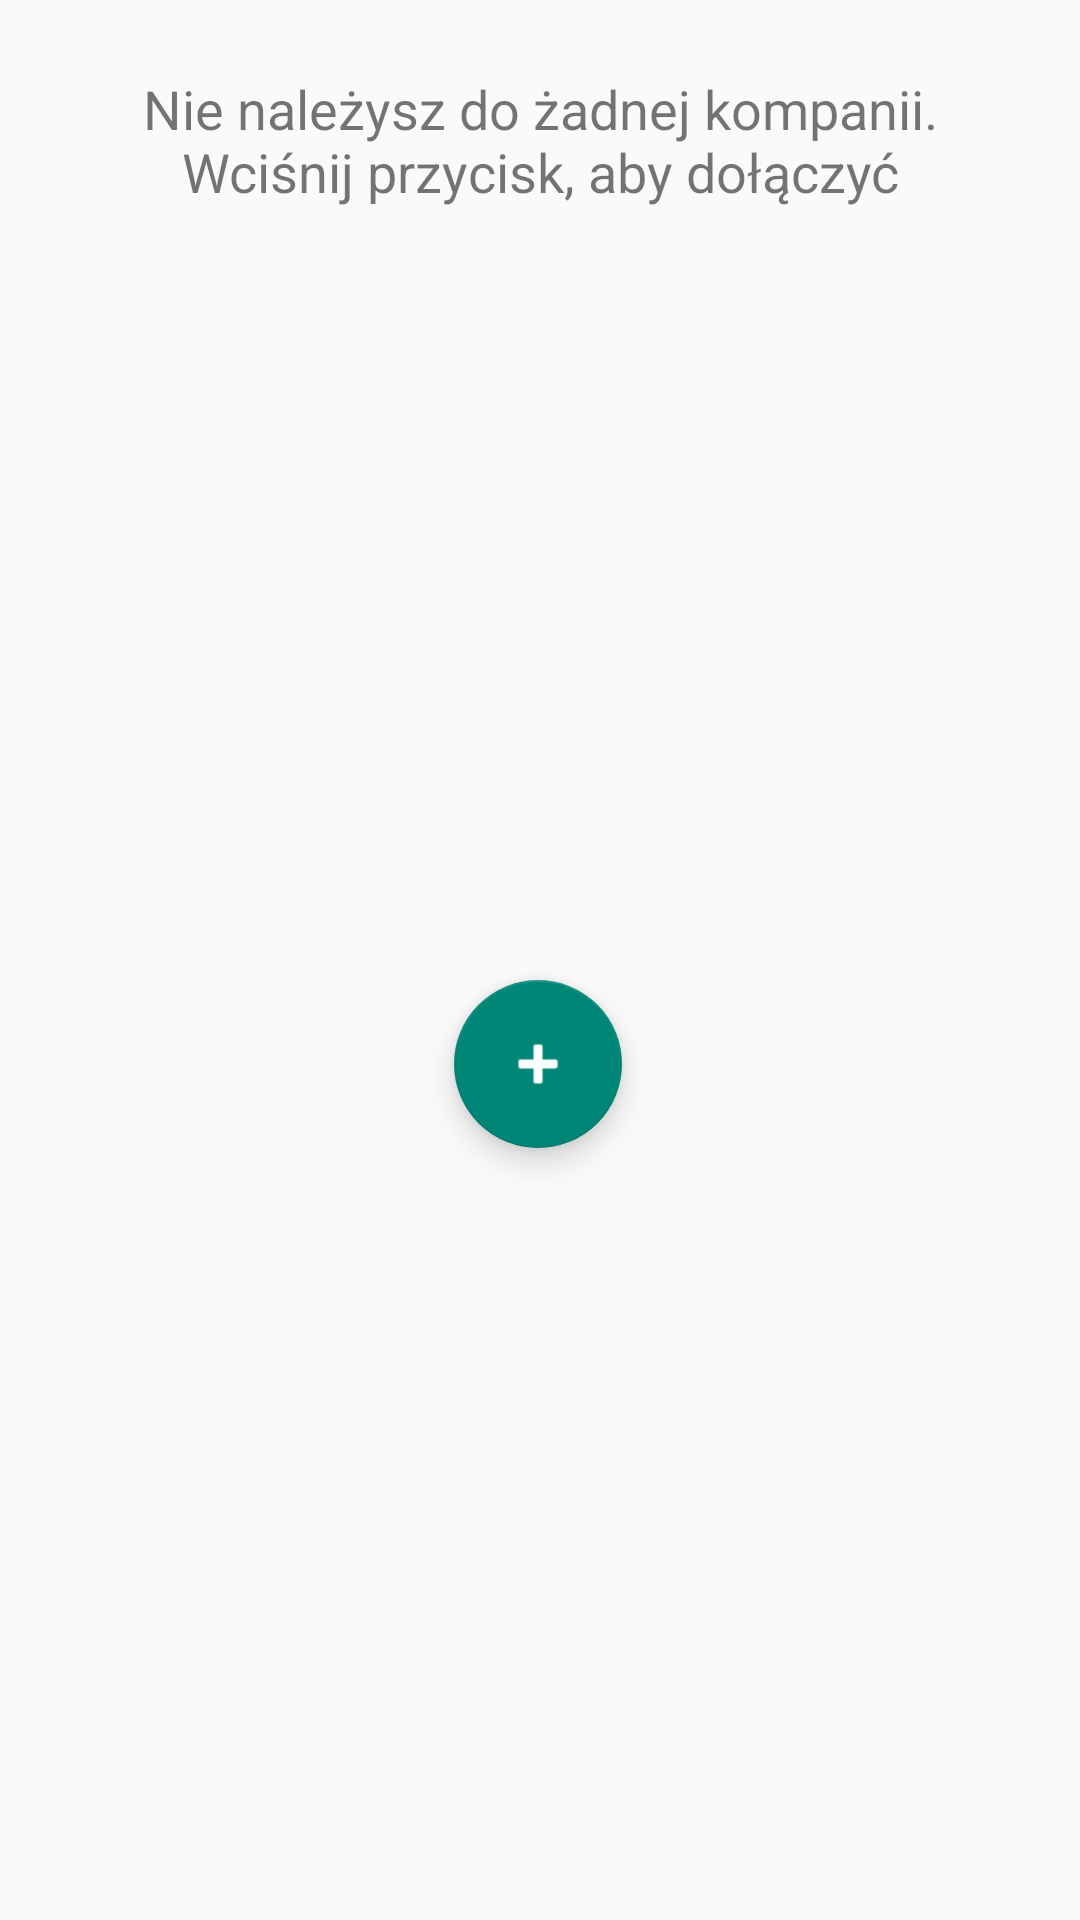

Named icons in this screenshot (1080px×1920px) and their bounding boxes, (x1, y1, x2, y2):
add: (454, 980, 622, 1148)
